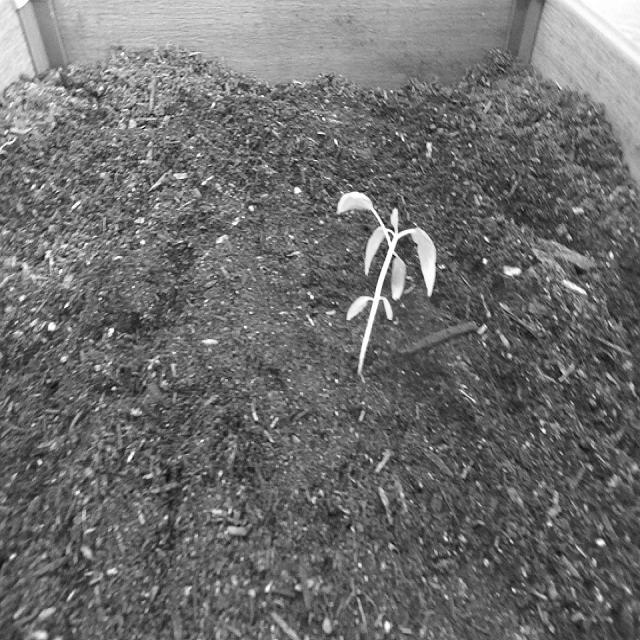Healthy: (332, 182, 442, 389)
